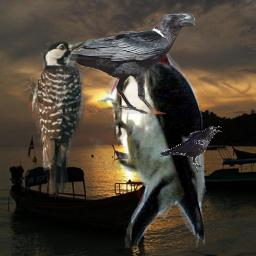Crow: (43, 11, 195, 114), (160, 126, 222, 174)
Woodpecker: (79, 31, 208, 248), (17, 40, 89, 205)
